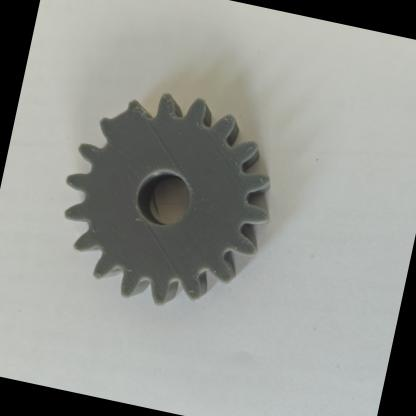defect: (81, 80, 156, 150)
gear: (32, 57, 308, 346)
